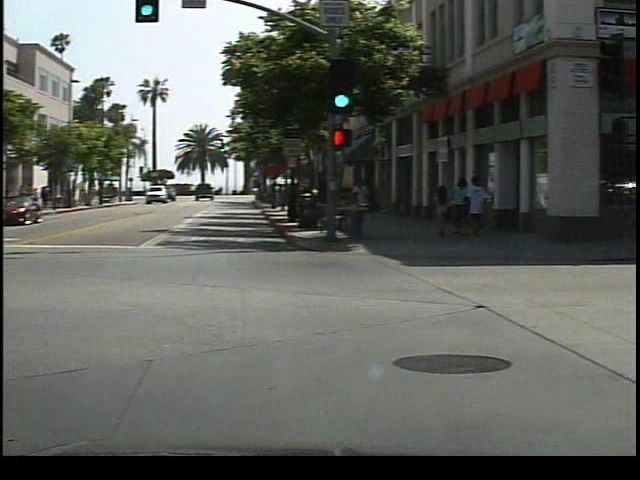person: (358, 175, 385, 230)
